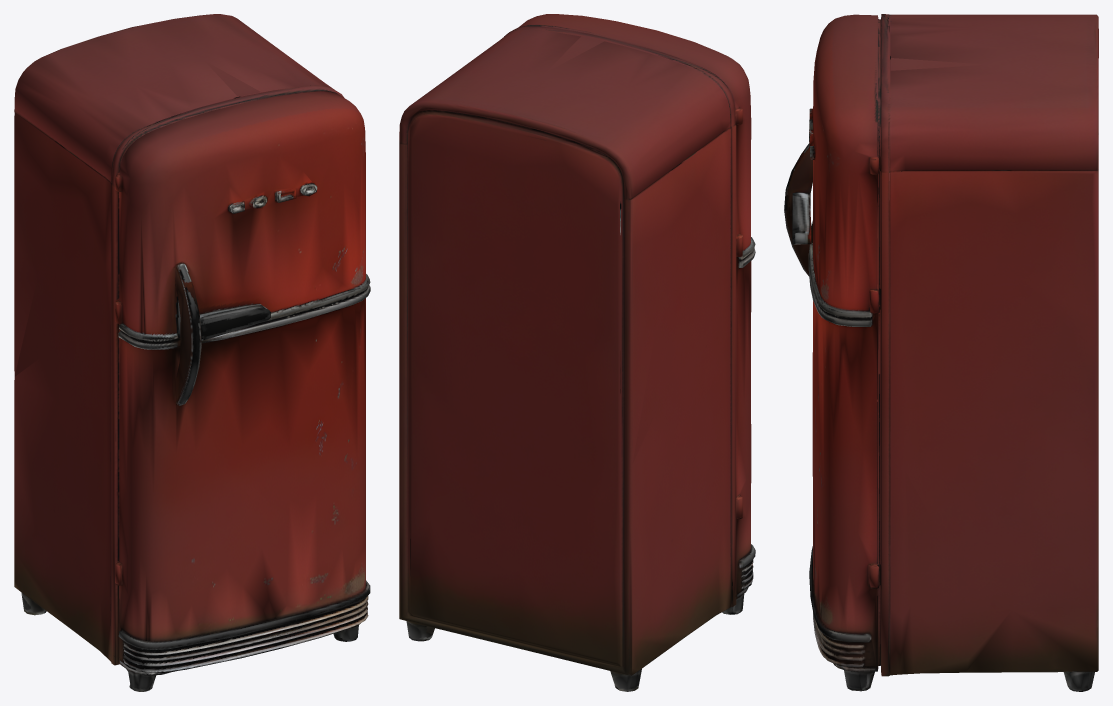
File: fridge_red.glb
3 renders of one model, left to right at view 1: azimuth 30°, elevation 25°; view 2: azimuth 150°, elevation 25°; view 3: azimuth 270°, elevation 25°, orthographic. The views are drawn at different scales.
Parts seen in each view (by area): view 1: fridge_red; view 2: fridge_red; view 3: fridge_red.
Part boxes in pixels (left/top/right/bottom): fridge_red: left=14, top=14, right=370, bottom=691; fridge_red: left=399, top=14, right=755, bottom=691; fridge_red: left=784, top=14, right=1098, bottom=691.
Bounding box in the file's own units: 0.7322 × 1.6 × 0.7855.
1 material, 1 textured.
